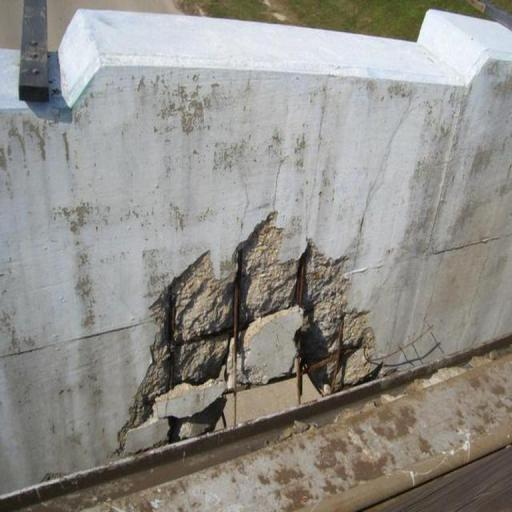spalling: (145, 211, 385, 371)
